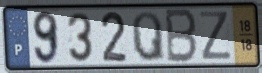2: (100, 10, 130, 65)
3: (66, 11, 94, 64)
9: (31, 9, 60, 67)
B: (165, 7, 199, 65)
Q: (130, 10, 167, 64)
Z: (198, 10, 234, 62)
